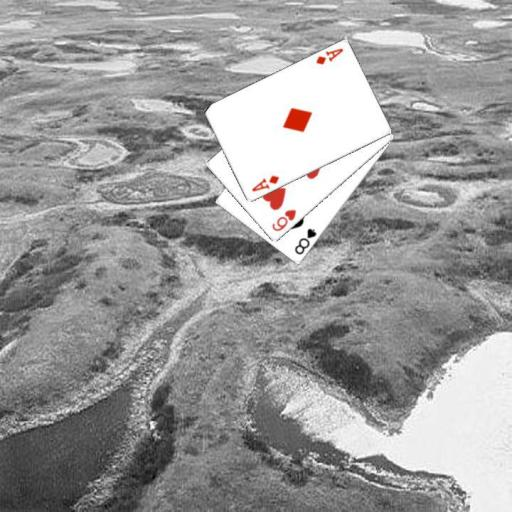6H: (269, 206, 297, 233)
8S: (291, 225, 318, 257)
AD: (313, 45, 344, 67), (248, 173, 280, 193)
